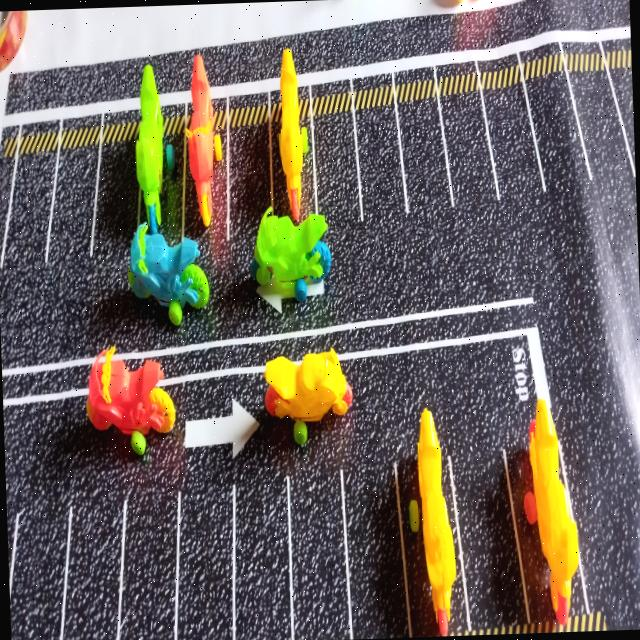bikes: (86, 346, 175, 454), (128, 222, 209, 325), (264, 350, 352, 443), (251, 207, 331, 302)
occupied: (507, 399, 585, 624), (396, 408, 470, 636), (184, 53, 229, 274), (135, 64, 186, 245), (271, 48, 313, 222)
others: (0, 10, 26, 71)
slots: (452, 452, 526, 627), (343, 462, 409, 639), (290, 470, 349, 639), (236, 466, 290, 640), (177, 473, 232, 640), (63, 487, 123, 640), (119, 493, 177, 640), (9, 507, 68, 640), (569, 70, 632, 184), (484, 84, 541, 202), (441, 91, 495, 211), (398, 98, 450, 219), (526, 72, 581, 186), (5, 149, 56, 270), (314, 109, 360, 241), (355, 107, 404, 219), (48, 148, 96, 262), (94, 139, 138, 254), (229, 122, 271, 240)
